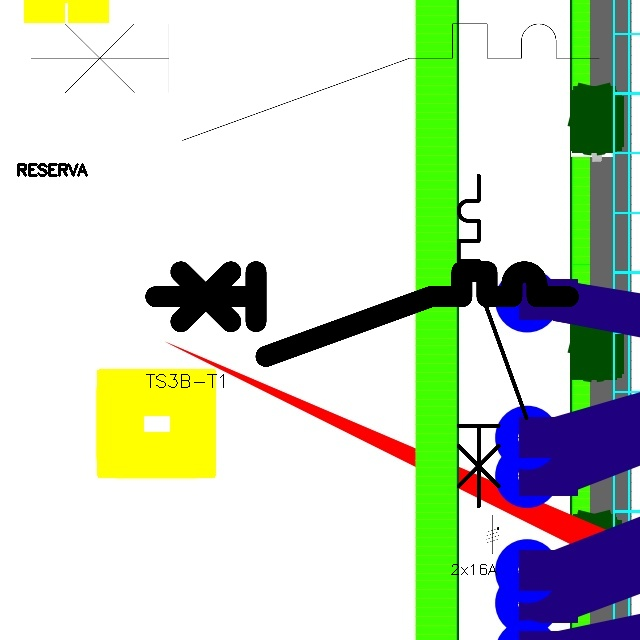interruptor_termomagnetico: (16, 9, 614, 155), (145, 261, 579, 367), (450, 167, 535, 515)
